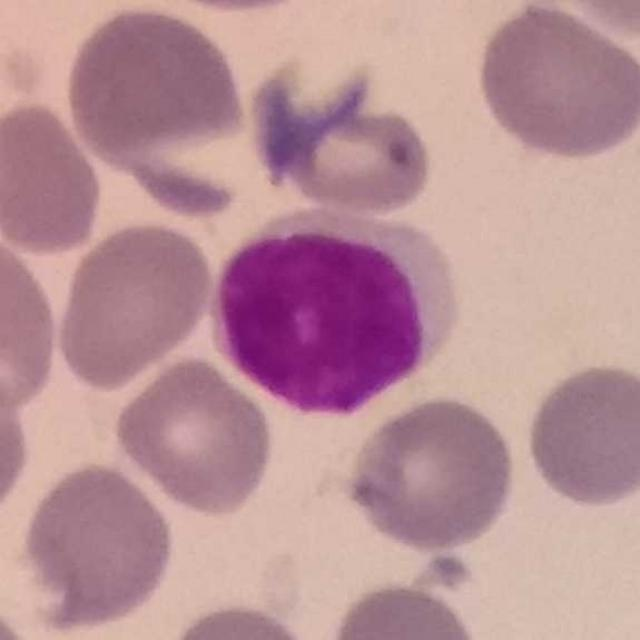Lymphocyte: (204, 212, 470, 420)
RBC: (59, 0, 253, 185), (242, 59, 438, 220), (14, 458, 180, 636), (340, 392, 521, 555), (52, 216, 218, 393), (108, 353, 278, 519), (472, 1, 640, 164), (521, 358, 640, 512), (0, 96, 108, 259), (0, 227, 63, 418), (322, 577, 484, 640), (158, 599, 319, 640), (0, 362, 35, 530), (528, 0, 640, 41), (133, 0, 330, 16), (0, 596, 44, 640)
